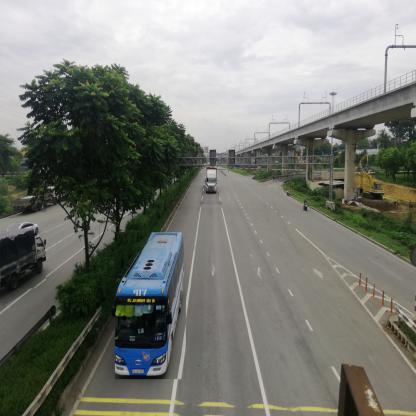bus: (116, 234, 187, 381)
car: (8, 224, 38, 238)
container: (206, 168, 218, 192)
motorbike: (304, 201, 310, 212), (287, 190, 292, 196)
truck: (2, 230, 47, 290)
